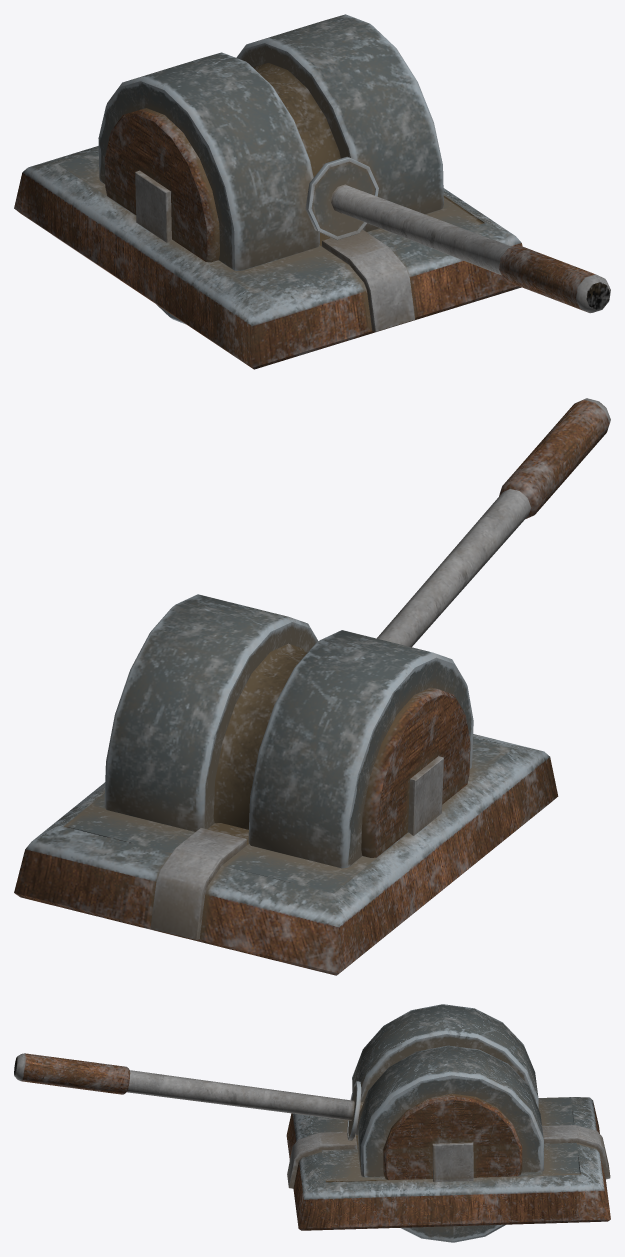
The model's file is LEVERANIMATION(PLAYER).FBX.
The picture shows the model from 3 angles, top to bottom: view 1: azimuth 30°, elevation 25°; view 2: azimuth 150°, elevation 25°; view 3: azimuth 270°, elevation 25°; orthographic projection. The views are drawn at different scales.
Parts seen in each view (by area): view 1: Cylinder001, Cylinder002; view 2: Cylinder001, Cylinder002; view 3: Cylinder001, Cylinder002.
Boxes of the visible parts, <box> form: Cylinder001: <box>14,14,522,369</box>; Cylinder002: <box>305,156,610,313</box>; Cylinder001: <box>14,594,558,975</box>; Cylinder002: <box>377,398,610,647</box>; Cylinder001: <box>286,1004,610,1242</box>; Cylinder002: <box>14,1053,363,1140</box>.
Size of the model in its own units: 26.25 by 19.87 by 61.99.
